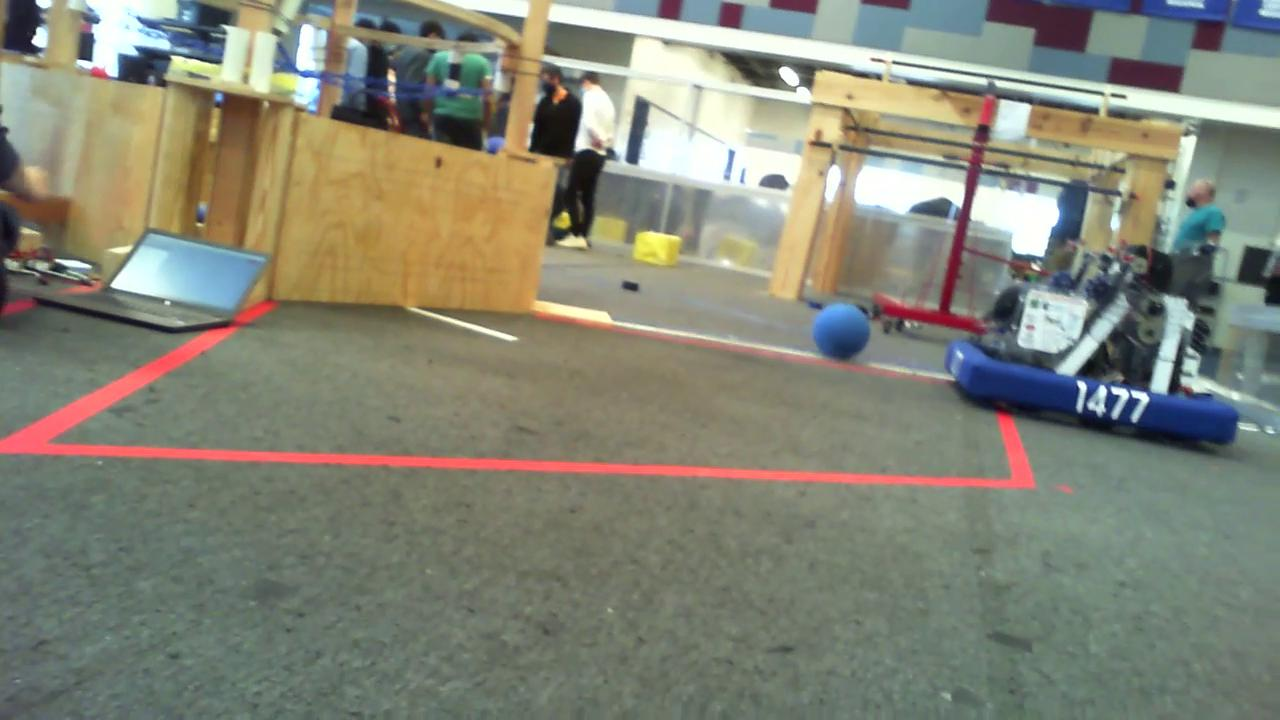robot: (947, 239, 1239, 447)
